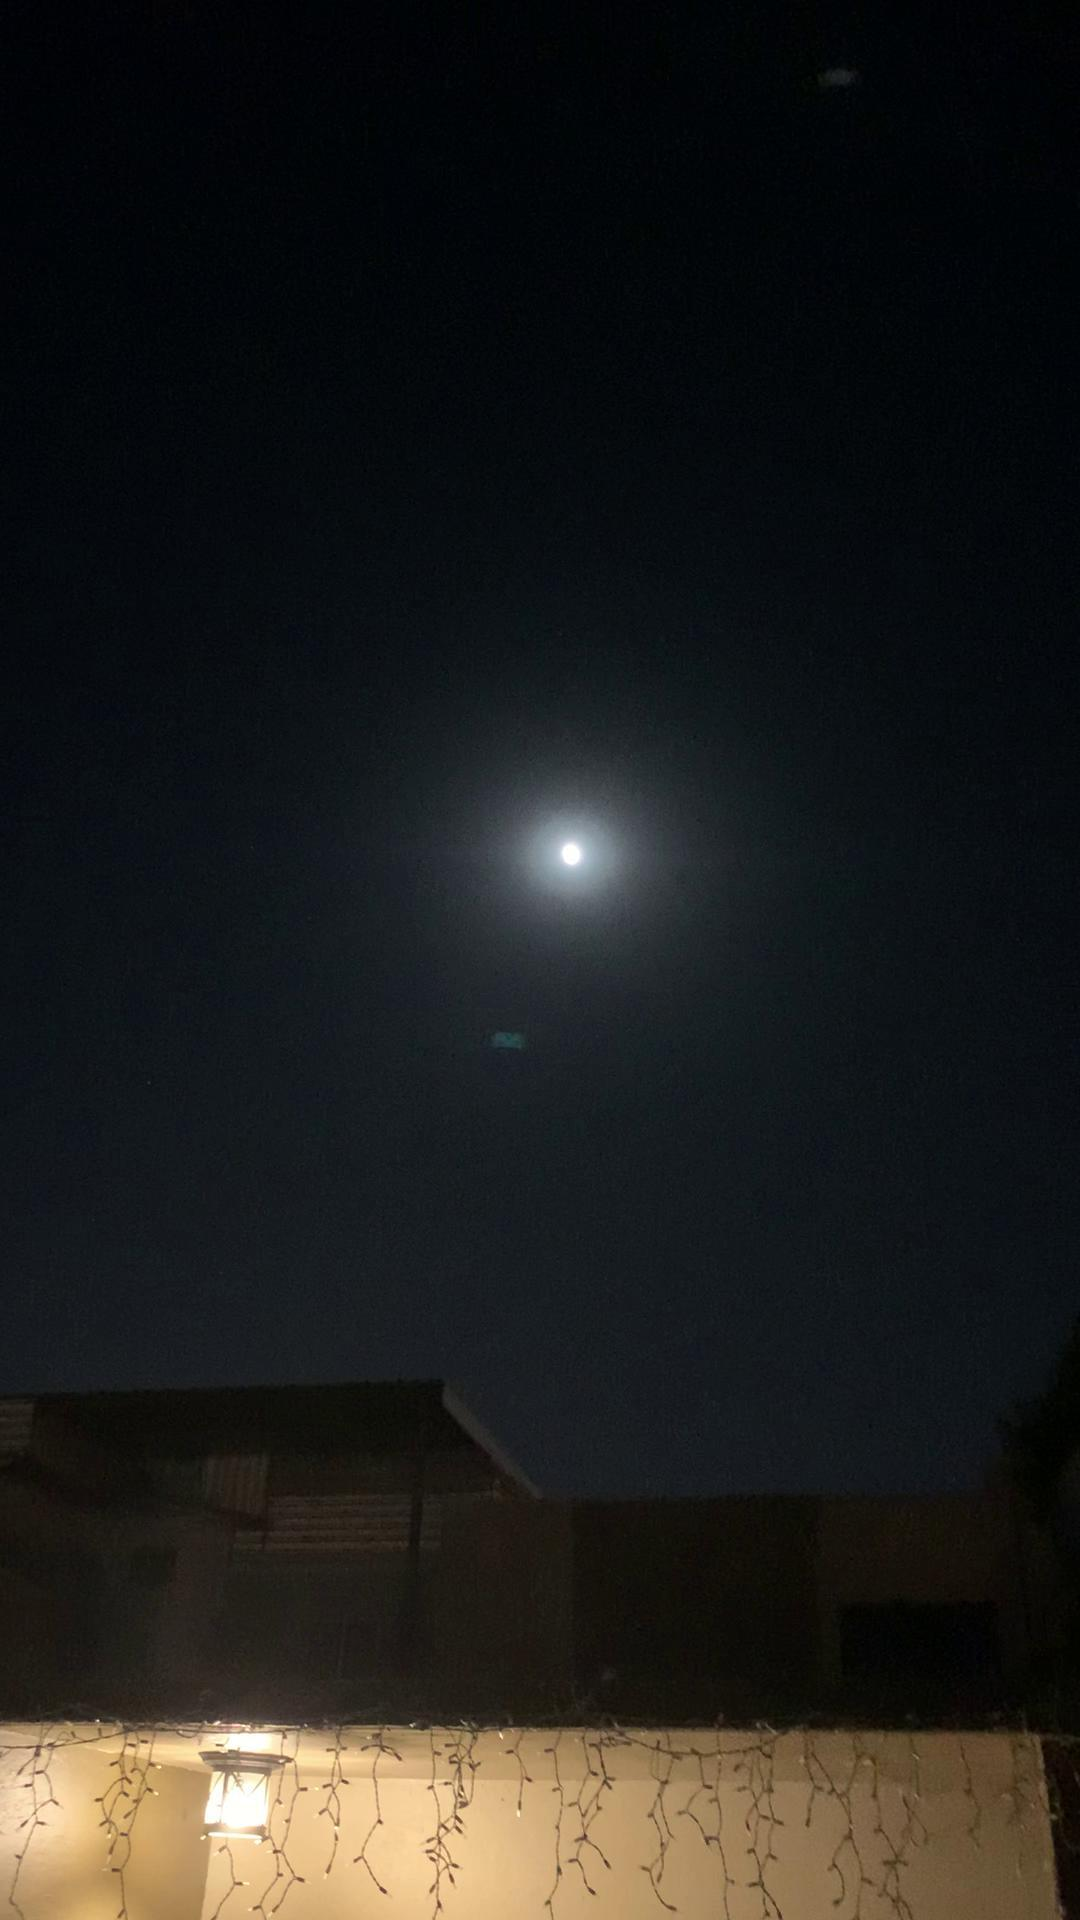moon: (525, 808, 612, 905)
